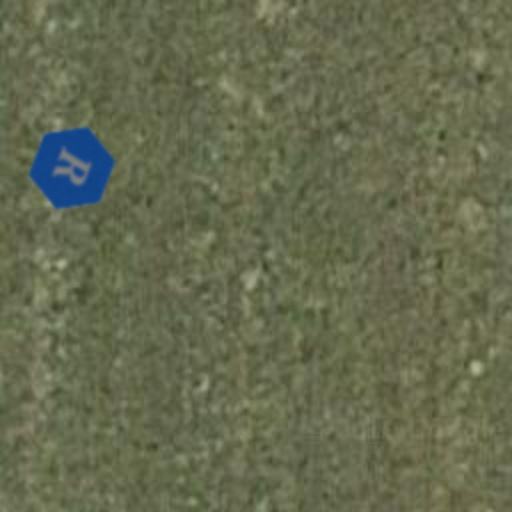hexagon: (14, 110, 130, 226)
